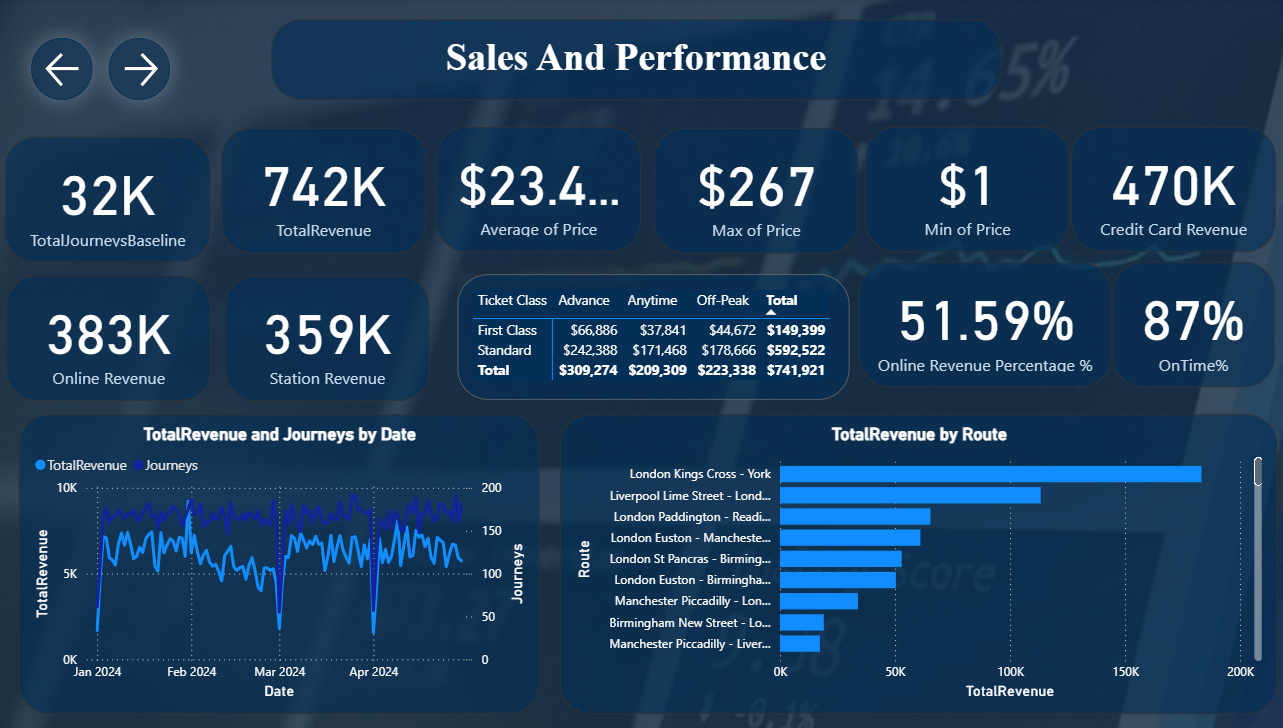

Layout of this report page (visuals, bound fields, positions):
{"tool":"powerbi","page":{"name":"Sales & Performance","canvas":[1280,720],"ordinal":1},"visuals":[{"type":"card","fields":{"Values":["_measure.TotalRevenue"]},"box":[231.8,127.9,201,123],"z":0},{"type":"card","fields":{"Values":["Avg(Ticket Table.Price)"]},"box":[443.1,126.5,201,123],"z":1000},{"type":"card","fields":{"Values":["Min(Ticket Table.Price)"]},"box":[864.3,126.5,201,123],"z":2000},{"type":"card","fields":{"Values":["Max(Ticket Table.Price)"]},"box":[657.1,127.9,201,123],"z":3000},{"type":"card","fields":{"Values":["_measure.Credit Card Revenue"]},"box":[1066,126.5,201,123],"z":4000},{"type":"card","fields":{"Values":["_measure.Online Revenue"]},"box":[20.3,272,201,123],"z":5000},{"type":"card","fields":{"Values":["_measure.Station Revenue"]},"box":[235.8,272,201,123],"z":6000},{"type":"card","fields":{"Values":["_measure.Online Revenue Percentage %"]},"box":[858,259.5,248.2,123.5],"z":7000},{"type":"card","fields":{"Values":["_measure.TotalJourneysBaseline"]},"box":[19.6,135.7,201.8,123.5],"z":8000},{"type":"lineChart","fields":{"Y":["_measure.TotalRevenue"],"Category":["Date.Date.Variation.Date Hierarchy.Year"],"Y2":["_measure.Journeys"]},"box":[32.6,408.7,511.1,294.7],"z":9000},{"type":"clusteredBarChart","fields":{"Y":["_measure.TotalRevenue"],"Category":["Journey Table.Route"]},"box":[564.5,408.7,704.4,294.7],"z":10000},{"type":"pivotTable","fields":{"Rows":["Ticket Table.Ticket Class"],"Columns":["Ticket Table.Ticket Type"],"Values":["Sum(Ticket Table.Price)"]},"box":[464.3,271.7,385.2,123.5],"z":11000},{"type":"card","fields":{"Values":["_measure.OnTime%"]},"box":[1106.3,259.5,159,123.5],"z":12000},{"type":"textbox","title":" Customer Impact on delay and refund","box":[281.3,20.8,716.6,79.5],"z":13000},{"type":"actionButton","box":[45.2,39.1,59.9,61.1],"z":14000},{"type":"actionButton","box":[121.1,39.1,59.9,61.1],"z":15000}]}

Visuals, with their boxes in screenshot pixels (x1, y1, x2, y2), scaled from the page's 1280x720 canvas onto the 1283x728 screenshot:
card - _measure.TotalRevenue: box=[232, 129, 434, 254]
card - Avg(Ticket Table.Price): box=[444, 128, 646, 252]
card - Min(Ticket Table.Price): box=[866, 128, 1068, 252]
card - Max(Ticket Table.Price): box=[659, 129, 860, 254]
card - _measure.Credit Card Revenue: box=[1068, 128, 1270, 252]
card - _measure.Online Revenue: box=[20, 275, 222, 399]
card - _measure.Station Revenue: box=[236, 275, 438, 399]
card - _measure.Online Revenue Percentage %: box=[860, 262, 1109, 387]
card - _measure.TotalJourneysBaseline: box=[20, 137, 222, 262]
lineChart - _measure.TotalRevenue x Date.Date.Variation.Date Hierarchy.Year: box=[33, 413, 545, 711]
clusteredBarChart - _measure.TotalRevenue x Journey Table.Route: box=[566, 413, 1272, 711]
pivotTable - Ticket Table.Ticket Class x Ticket Table.Ticket Type: box=[465, 275, 851, 400]
card - _measure.OnTime%: box=[1109, 262, 1268, 387]
" Customer Impact on delay and refund" textbox: box=[282, 21, 1000, 101]
actionButton: box=[45, 40, 105, 101]
actionButton: box=[121, 40, 181, 101]
